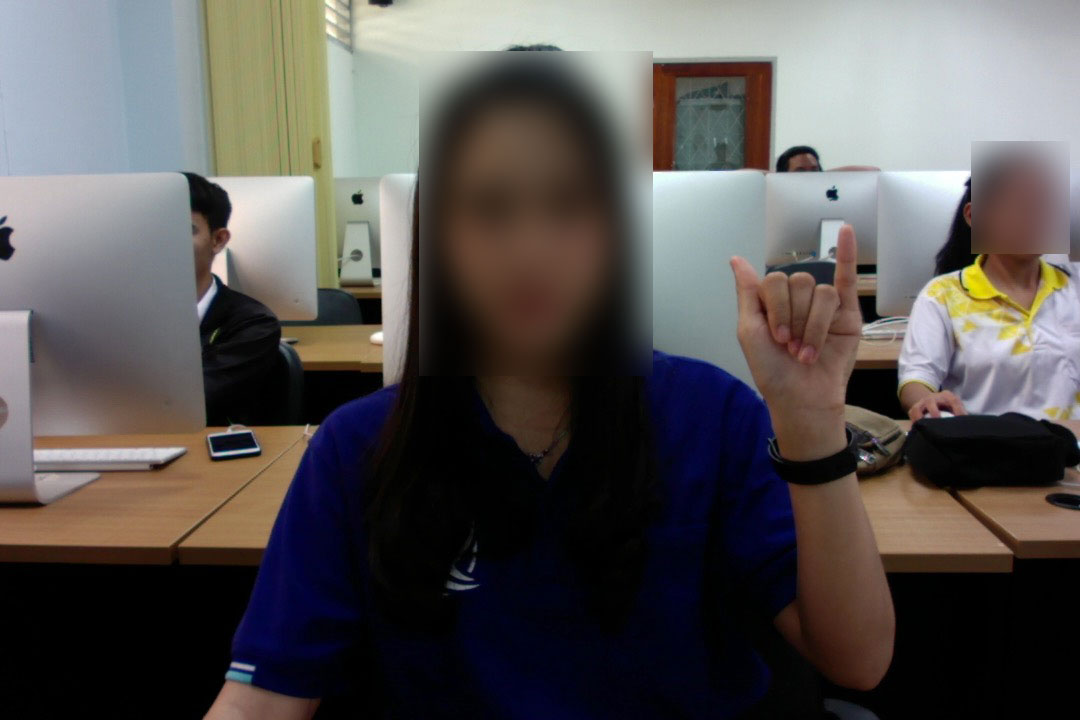yor: (715, 213, 872, 440)
